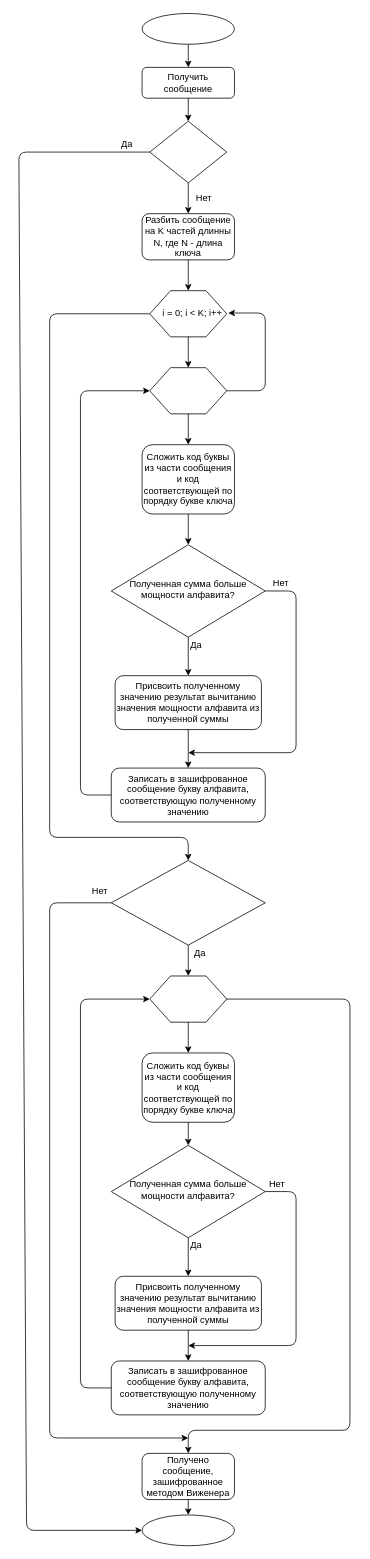
This 370x1559 diagram has some shape labels left out. Each missing label, with the centre of its shape:
"i = 0; i < M; i++" goes at point 188,998.
"j = 0; j < N; j++" goes at point 188,390.
"Есть остаток M от деления сообщения на части?" goes at point 187,902.
"Конец" goes at point 187,1530.
"Начало" goes at point 187,28.
"Сообщение пустое?" goes at point 188,152.
